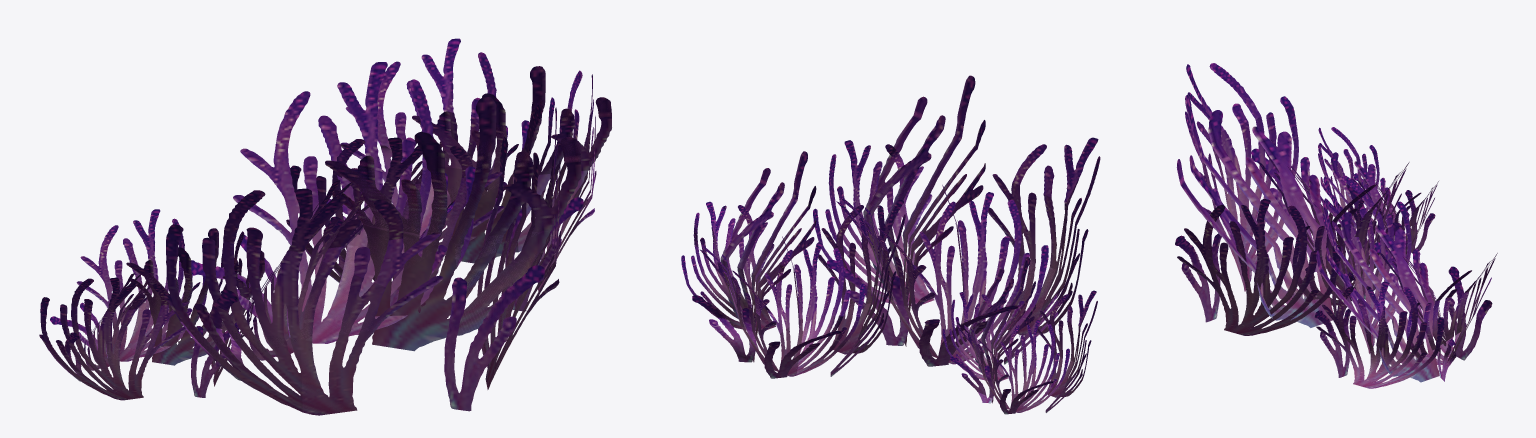
Rendered from yw_huanghunzhihu_zishanhu.FBX.
3 views of the same model, side by side, from view 1: azimuth 30°, elevation 25°; view 2: azimuth 150°, elevation 25°; view 3: azimuth 270°, elevation 25° (orthographic). The views are drawn at different scales.
Visible parts, largest first — view 1: yw_huanghunzhihu_zishanhu; view 2: yw_huanghunzhihu_zishanhu; view 3: yw_huanghunzhihu_zishanhu.
Boxes of the visible parts, box(x1,y1,x2,y2) form: yw_huanghunzhihu_zishanhu: box(39, 38, 611, 415); yw_huanghunzhihu_zishanhu: box(681, 75, 1100, 414); yw_huanghunzhihu_zishanhu: box(1175, 63, 1497, 388).
Size of the model in its own units: 277 by 169 by 206.
